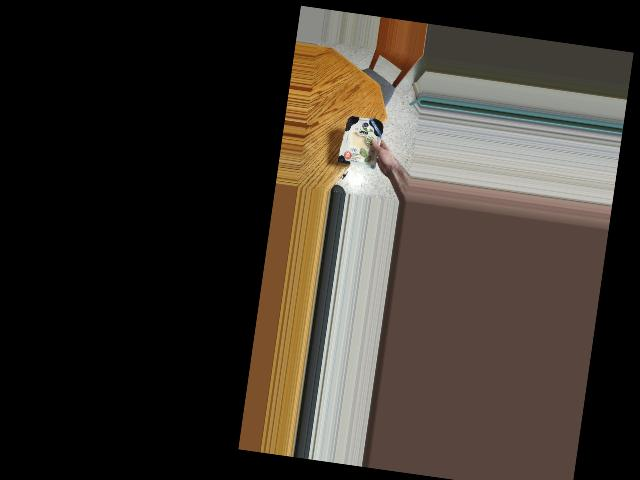cheese: (336, 106, 383, 177)
